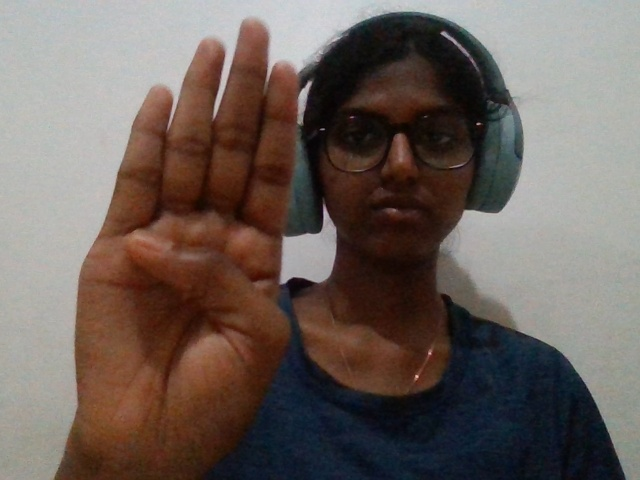B: (62, 12, 303, 460)
